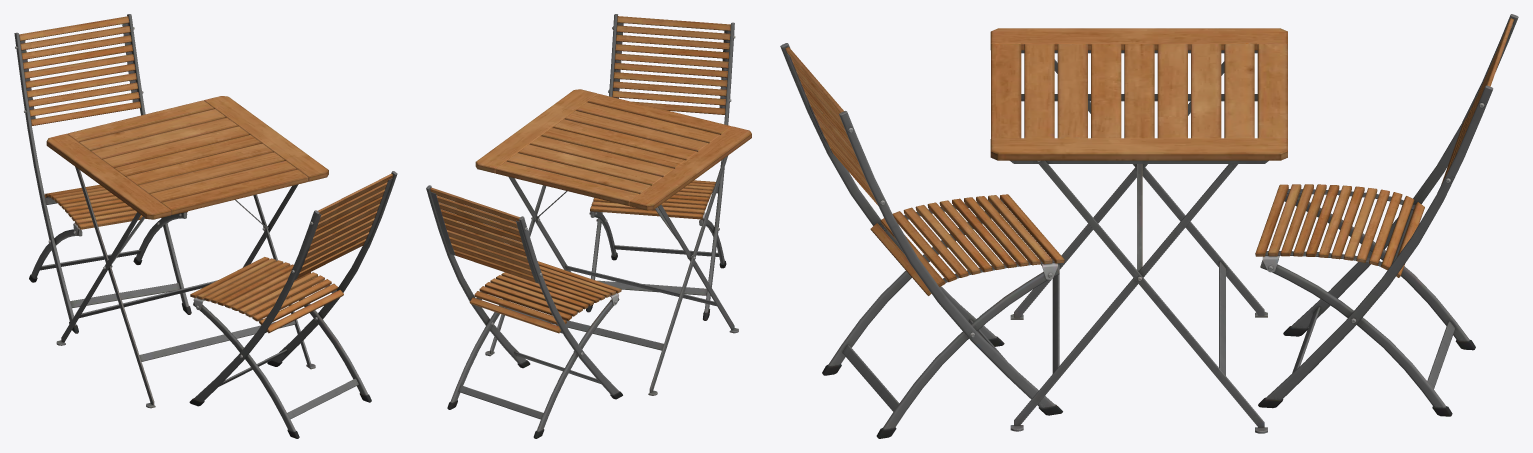
File: m_outdoor_table_chair_set_01.glb
3 views of the same model, side by side, from view 1: azimuth 30°, elevation 25°; view 2: azimuth 150°, elevation 25°; view 3: azimuth 270°, elevation 25° (orthographic). The views are drawn at different scales.
Visible parts, largest first — view 1: outdoor_table_chair_set_01_chair_01, outdoor_table_chair_set_01_table; view 2: outdoor_table_chair_set_01_chair_01, outdoor_table_chair_set_01_table; view 3: outdoor_table_chair_set_01_table, outdoor_table_chair_set_01_chair_01.
Boxes of the visible parts, x1,y1,x2,y2 form: outdoor_table_chair_set_01_chair_01: (14,14,397,438); outdoor_table_chair_set_01_table: (46,96,328,408); outdoor_table_chair_set_01_chair_01: (426,14,735,438); outdoor_table_chair_set_01_table: (475,89,751,395); outdoor_table_chair_set_01_table: (990,28,1287,433); outdoor_table_chair_set_01_chair_01: (780,14,1518,438).
Bounding box in the file's own units: 0.7417 × 0.8587 × 1.72.
Materials: 2 (2 with a texture image).
